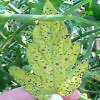Tomato Septoria leaf spot: (7, 1, 90, 98)
